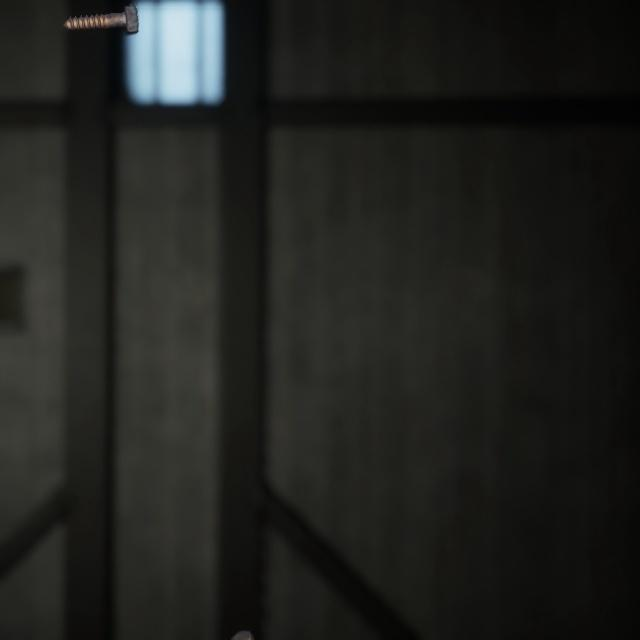bolt: (58, 0, 142, 30), (226, 600, 269, 640)
